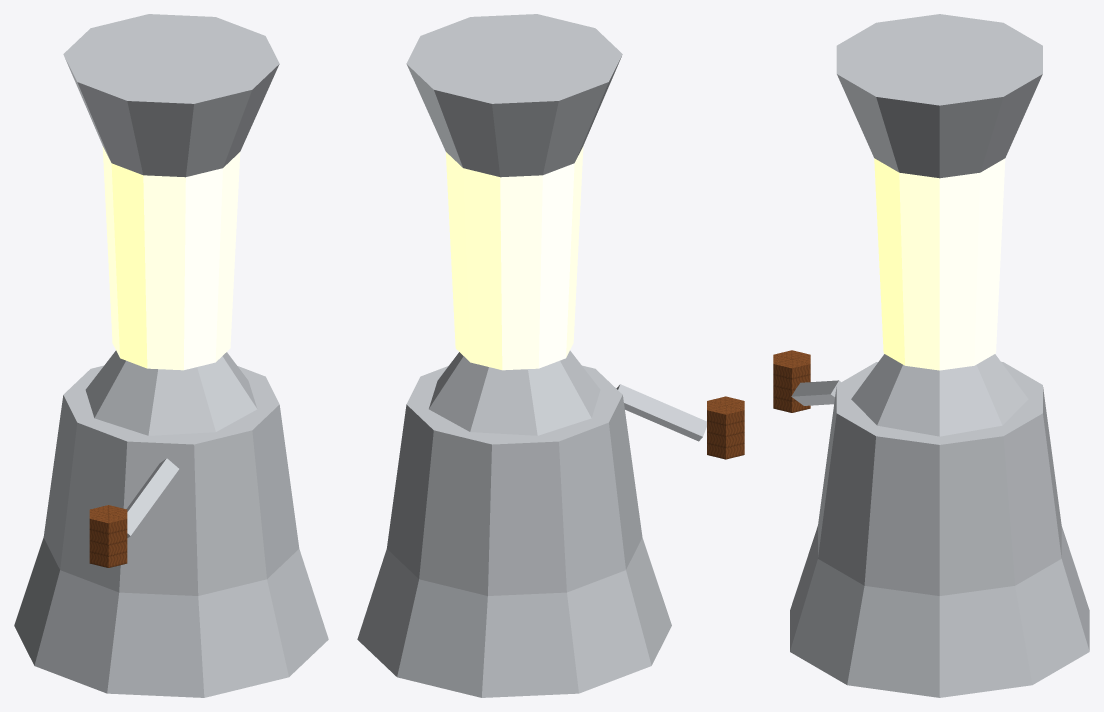
File: safari-camp-and-bush-lodge-paraffin-lamp-48718fed__37691.glb
The picture shows the model from 3 angles, left to right: view 1: azimuth 30°, elevation 25°; view 2: azimuth 150°, elevation 25°; view 3: azimuth 270°, elevation 25°; orthographic projection.
Parts seen in each view (by area): view 1: paraffin-lamp-steel, paraffin-lamp-lamp, paraffin-lamp-timber; view 2: paraffin-lamp-steel, paraffin-lamp-lamp, paraffin-lamp-timber; view 3: paraffin-lamp-steel, paraffin-lamp-lamp, paraffin-lamp-timber.
Boxes of the visible parts, x1,y1,x2,y2 form: paraffin-lamp-steel: [14, 14, 328, 697]; paraffin-lamp-lamp: [102, 146, 240, 370]; paraffin-lamp-timber: [89, 505, 127, 567]; paraffin-lamp-steel: [357, 14, 706, 697]; paraffin-lamp-lamp: [446, 146, 583, 370]; paraffin-lamp-timber: [707, 396, 744, 459]; paraffin-lamp-steel: [790, 14, 1089, 697]; paraffin-lamp-lamp: [874, 158, 1005, 370]; paraffin-lamp-timber: [773, 350, 810, 412].
Size of the model in its own units: 0.342 by 0.64 by 0.3212.
3 materials, 1 textured.
